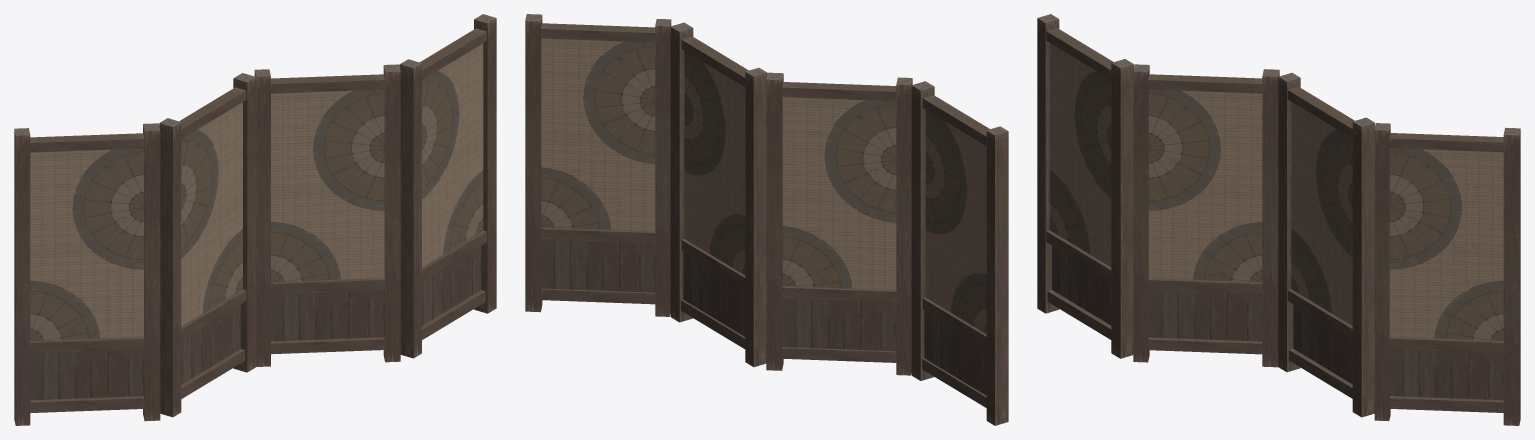
File: Homeworld_Exterior_Common_Thing_Wenquanpingfeng_01_Vo.fbx
3 renders of one model, left to right at view 1: azimuth 30°, elevation 25°; view 2: azimuth 150°, elevation 25°; view 3: azimuth 330°, elevation 25°, orthographic.
Visible parts, largest first — view 1: Homeworld_Exterior_Common_Thing_Wenquanpingfeng_01_Vo; view 2: Homeworld_Exterior_Common_Thing_Wenquanpingfeng_01_Vo; view 3: Homeworld_Exterior_Common_Thing_Wenquanpingfeng_01_Vo.
Boxes of the visible parts, box(x1,y1,x2,y2) form: Homeworld_Exterior_Common_Thing_Wenquanpingfeng_01_Vo: box(14, 14, 496, 425); Homeworld_Exterior_Common_Thing_Wenquanpingfeng_01_Vo: box(525, 14, 1008, 425); Homeworld_Exterior_Common_Thing_Wenquanpingfeng_01_Vo: box(1037, 14, 1520, 425).
Bounding box in the file's own units: 4.8 × 2.77 × 0.6654.
